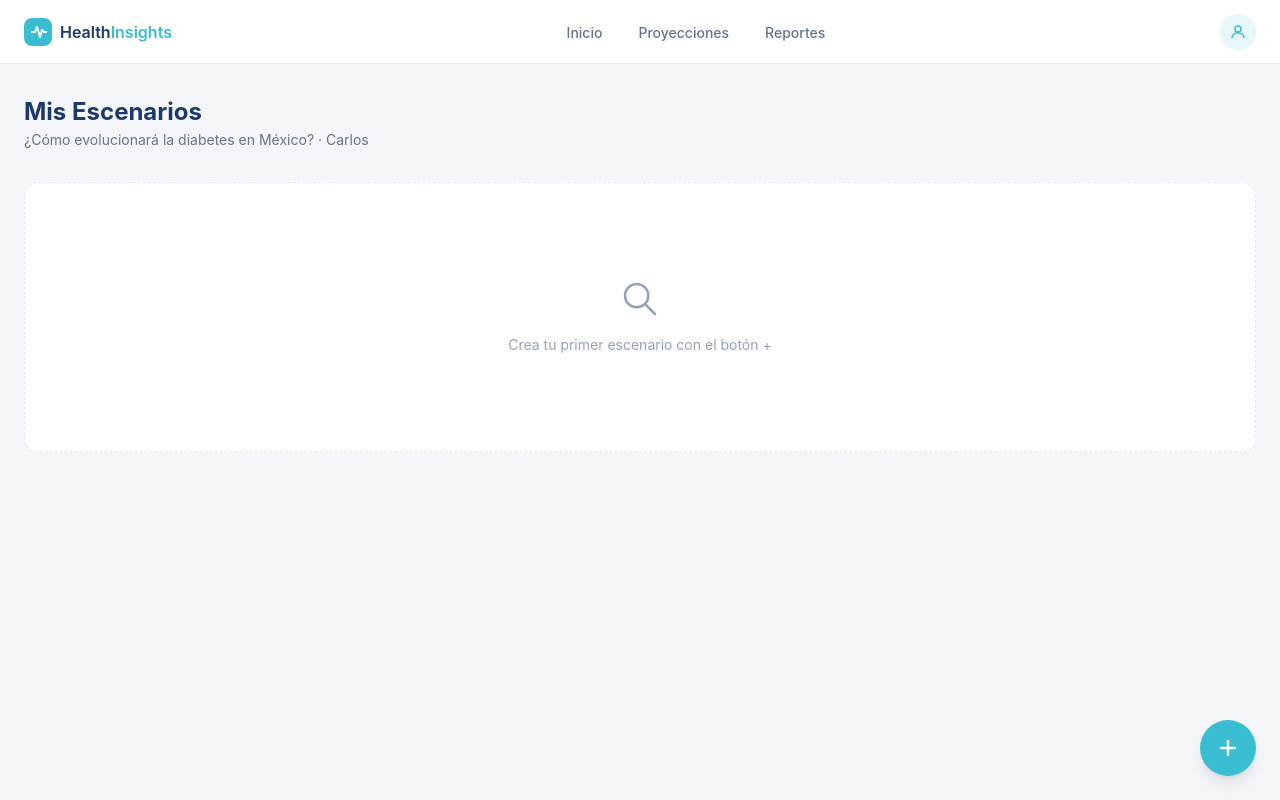
it: GeneralProyeccionesPage › abre el modal de nueva proyección al hacer clic en el FAB
Click the button named "nueva proyección" at (1228, 748), box [1200,720,1256,776]
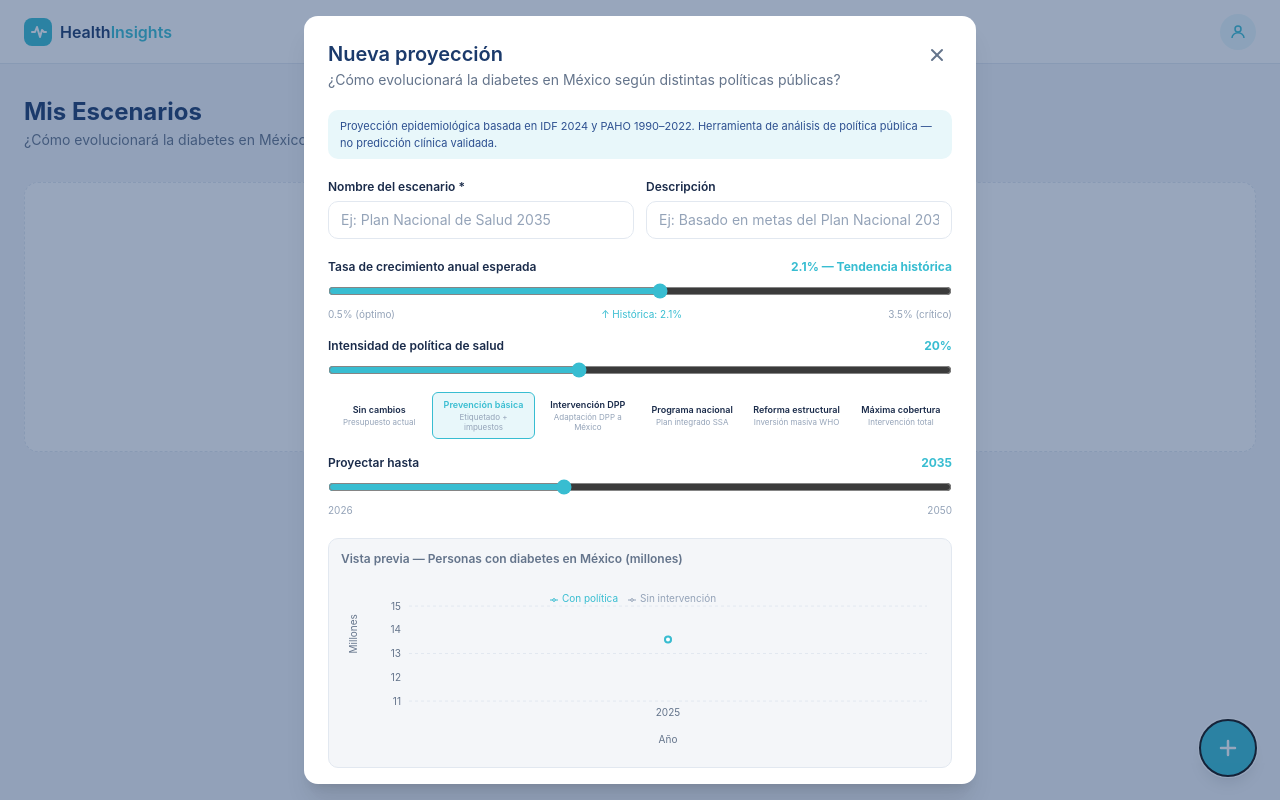
Now the heading "Nueva proyección" is shown, box [328,42,503,66]
